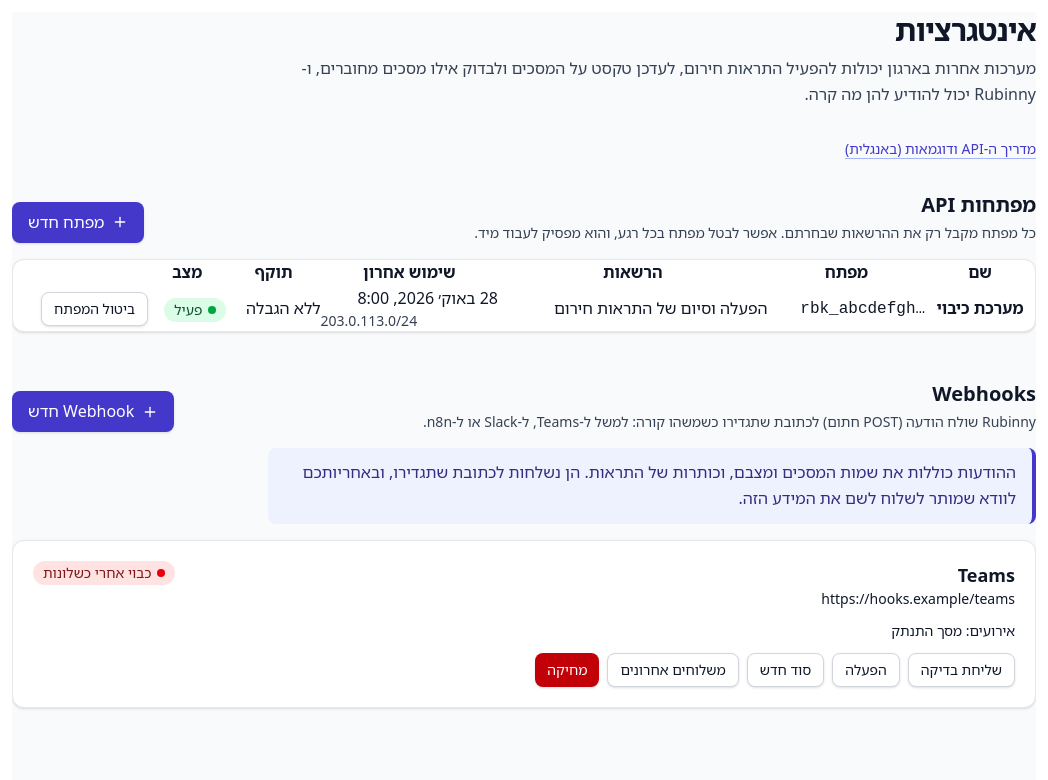
Test: integrations page › shows a webhook turned off after failures, sends a test and says what came back
Expected: the text "כבוי אחרי כשלונות" is shown, x1=33 y1=561 x2=176 y2=585
Expected: the text "אירועים: מסך התנתק" is shown, x1=891 y1=621 x2=1015 y2=640
Click the button "שליחת בדיקה" at (961, 670), box x1=908 y1=653 x2=1015 y2=687
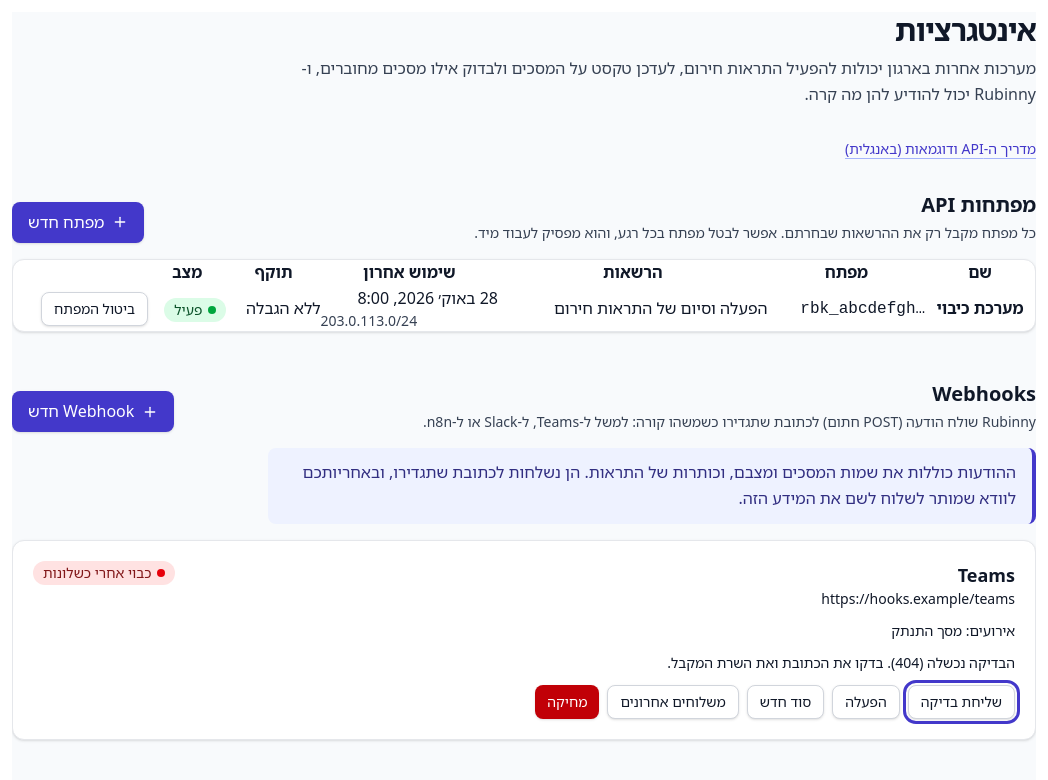
Now the text "הבדיקה נכשלה (404). בדקו את הכתובת ואת השרת המקבל." is shown, box x1=667 y1=653 x2=1015 y2=672
Click the button "משלוחים אחרונים" at (673, 702), box x1=608 y1=685 x2=739 y2=719
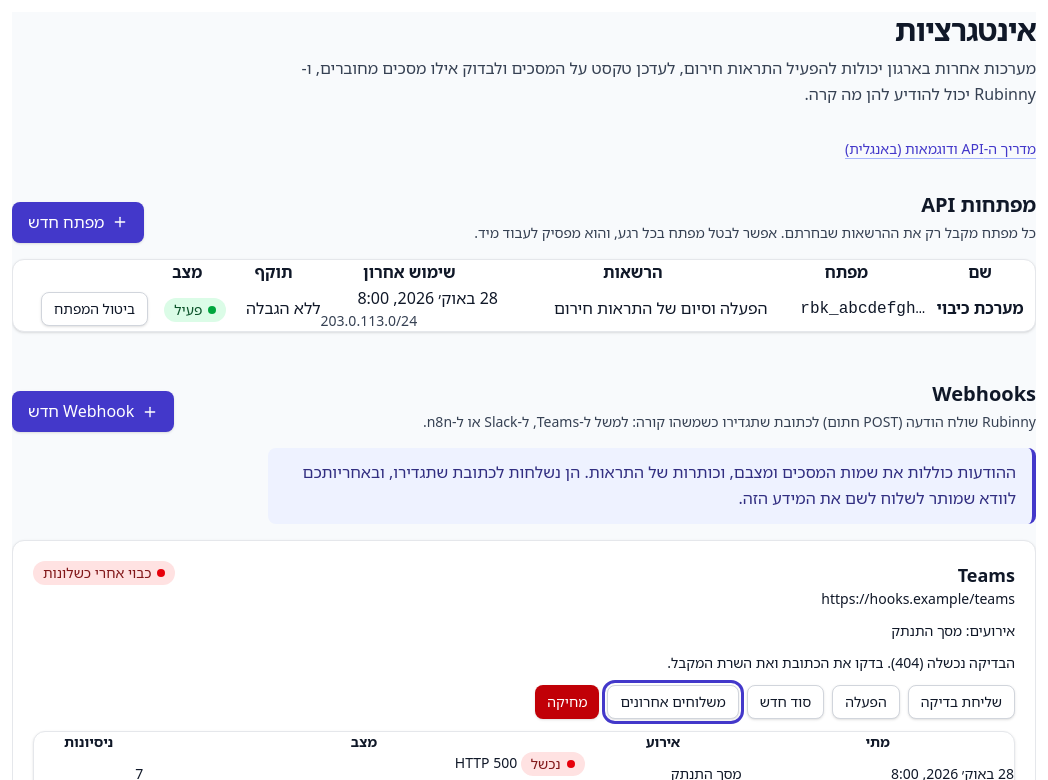
Now the text "נכשל" is shown, box x1=521 y1=752 x2=584 y2=776
Now the text "HTTP 500" is shown, box x1=455 y1=753 x2=517 y2=772
